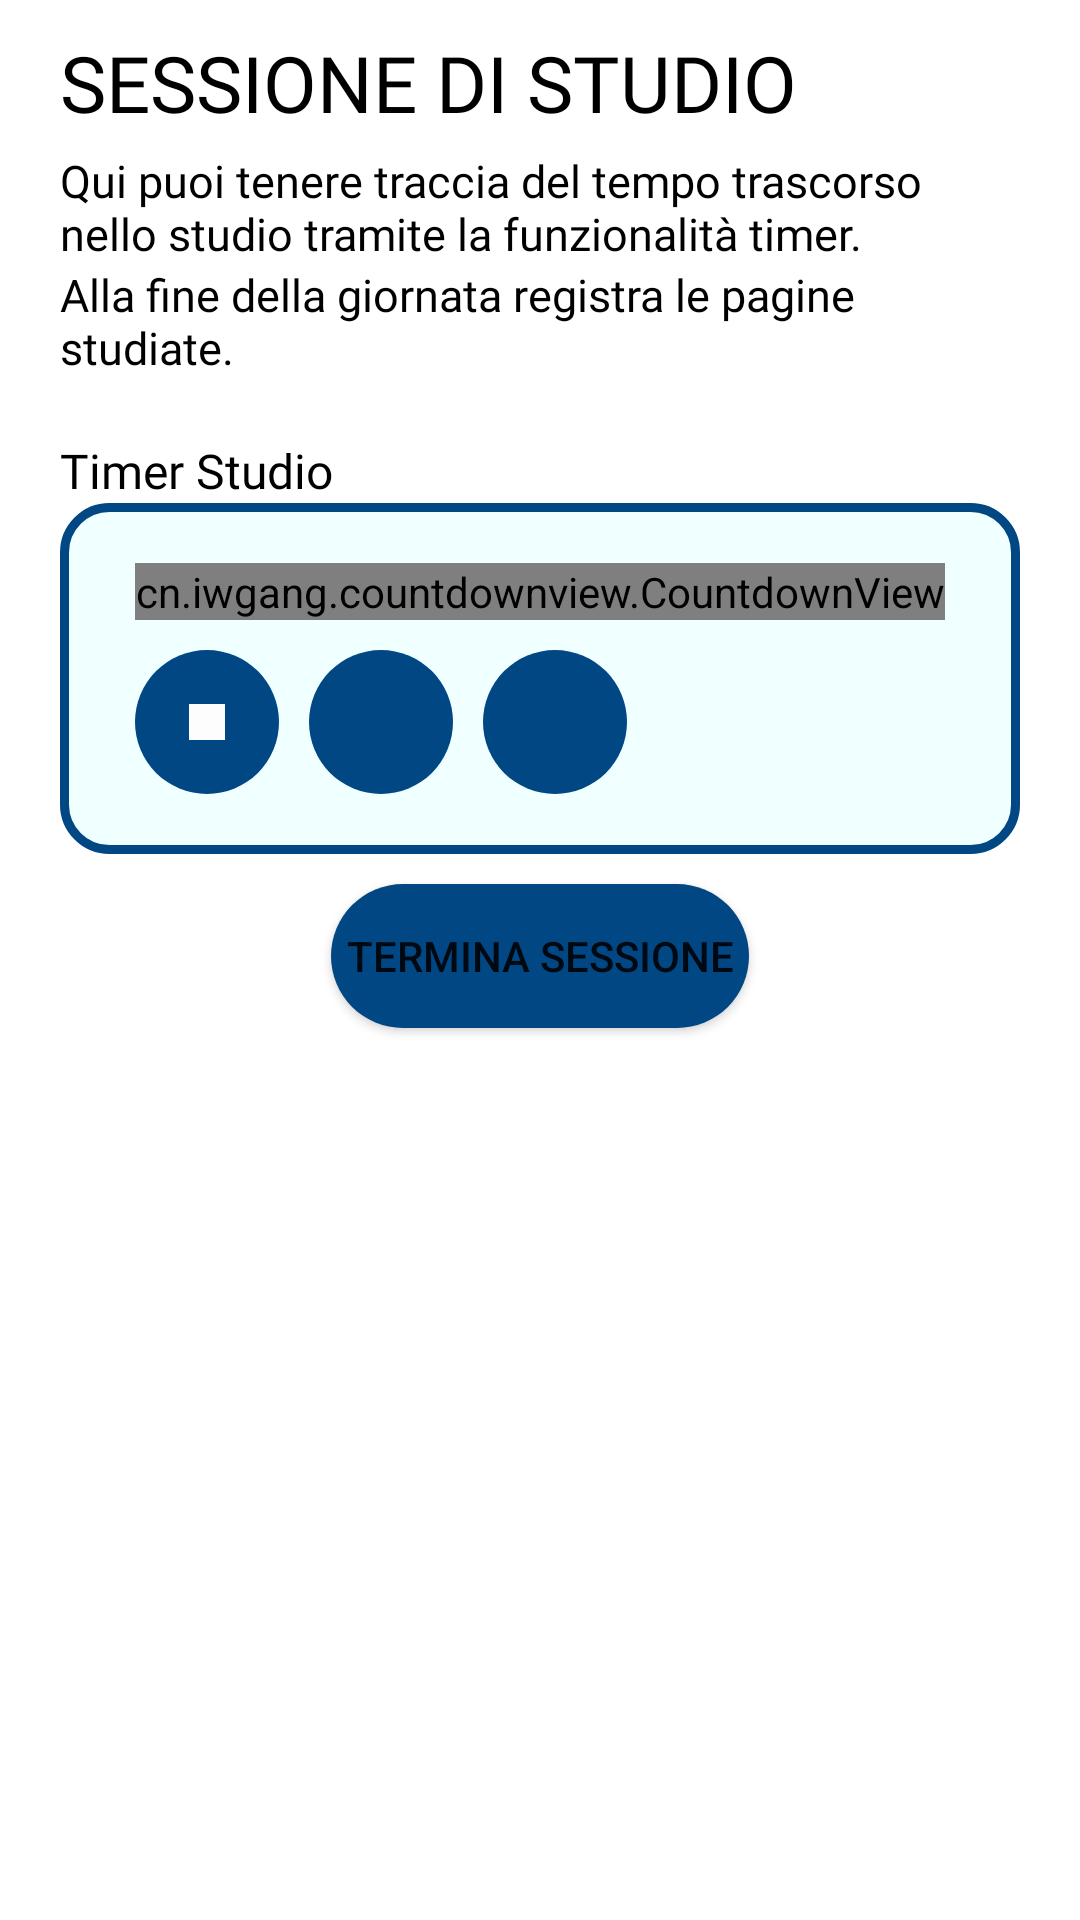

Locate icon controls on the screen. Image size 1080px x 1920px, boxes as rect(x1, y1, x2, y2).
Stoppa il timer: rect(135, 650, 279, 794)
